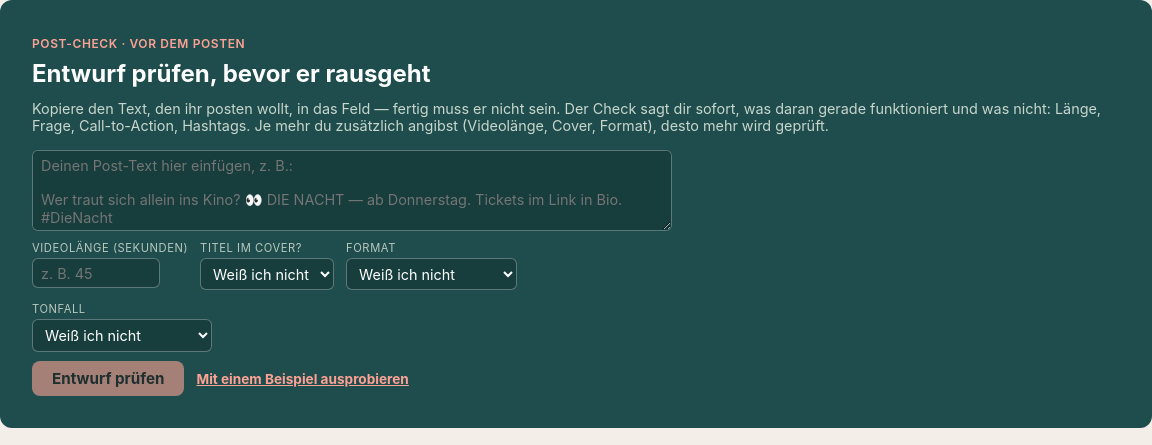
Test: PostCheckBlock — Flag-Gate und Ablauf › das Beispiel fuellt das Formular — der leere Zustand erklaert sich selbst
expect the heading "Entwurf prüfen, bevor er rausgeht" is shown: met, box [32, 59, 430, 88]
Step 1. Click the button "Mit einem Beispiel ausprobieren" → (303, 379), box [196, 371, 409, 387]
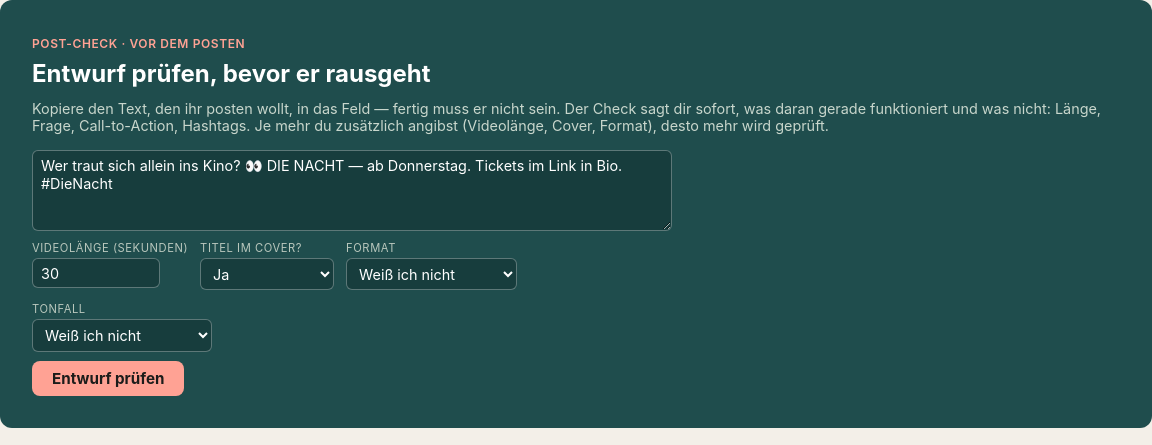
expect the button "Entwurf prüfen" is enabled: met, box [32, 361, 184, 396]
